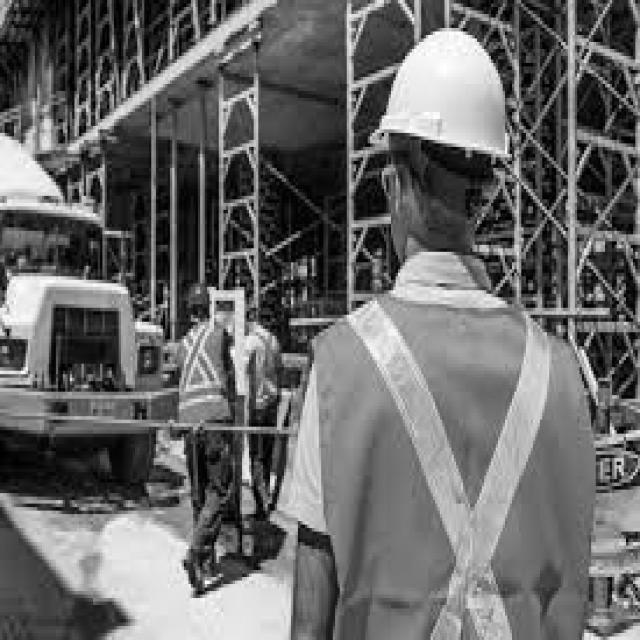safety_helmet: (382, 31, 510, 161)
